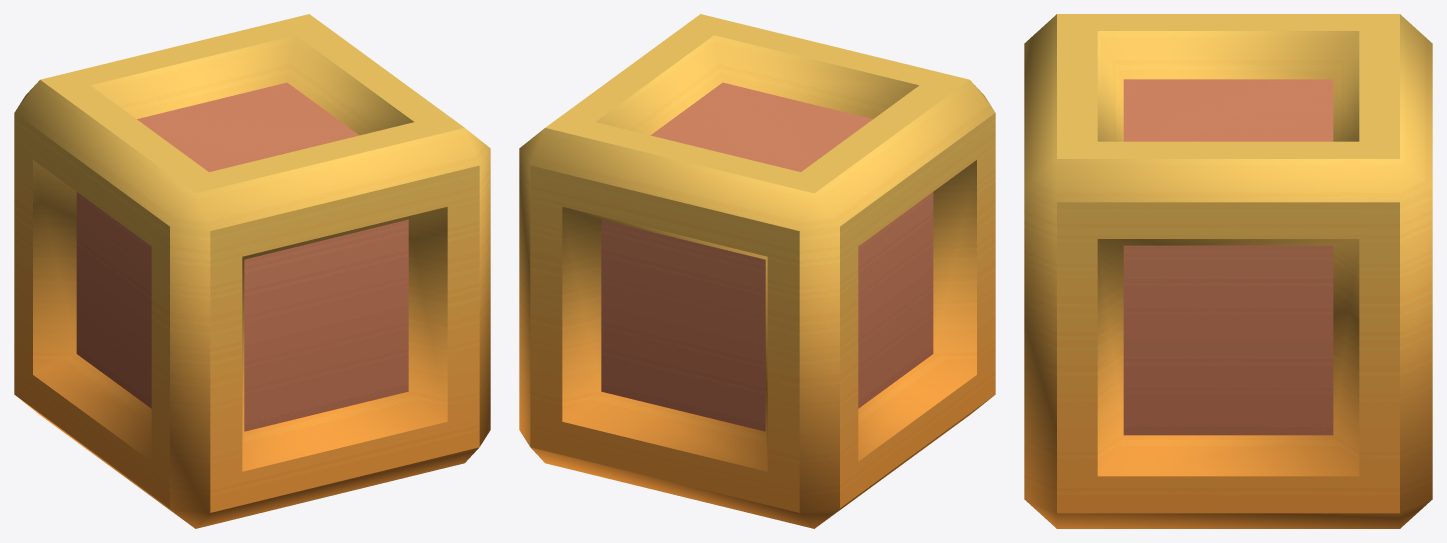
Rendered from crate-item.glb.
3 renders of one model, left to right at view 1: azimuth 30°, elevation 25°; view 2: azimuth 150°, elevation 25°; view 3: azimuth 270°, elevation 25°, orthographic. The views are drawn at different scales.
Visible parts, largest first — view 1: crate-item; view 2: crate-item; view 3: crate-item.
Boxes of the visible parts, x1,y1,x2,y2 form: crate-item: (14, 14, 490, 528); crate-item: (519, 14, 995, 528); crate-item: (1024, 14, 1432, 528).
Size of the model in its own units: 0.5 by 0.5 by 0.5.
1 material, 1 textured.
